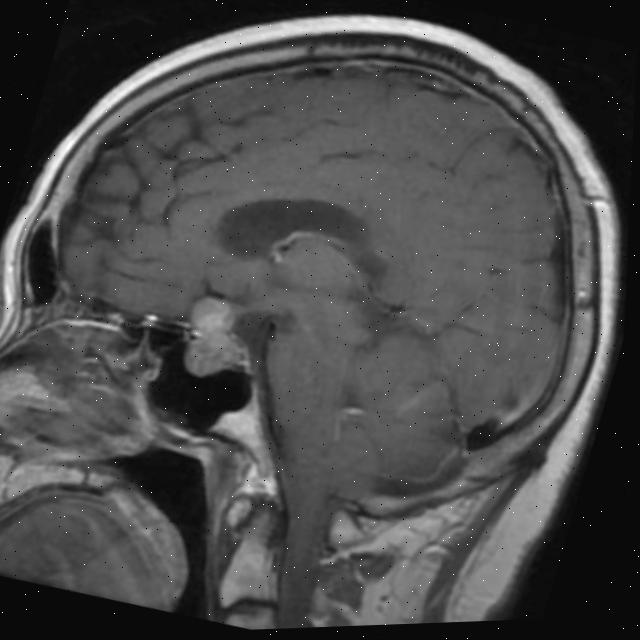Pituitary: (170, 288, 260, 390)
